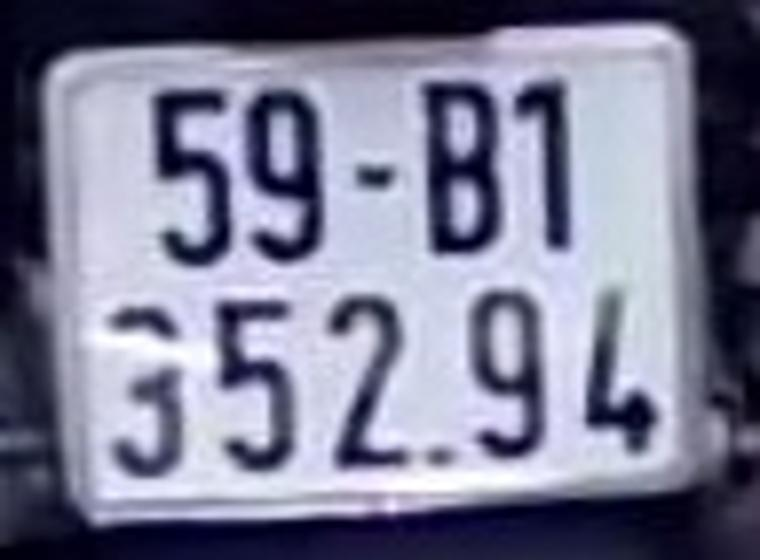-: (357, 163, 393, 189)
.: (426, 444, 453, 464)
1: (516, 79, 571, 250)
2: (324, 293, 409, 468)
3: (104, 304, 187, 482)
4: (575, 282, 663, 450)
5: (211, 297, 297, 475), (149, 87, 233, 264)
9: (246, 90, 326, 267), (467, 291, 549, 459)
B: (423, 79, 497, 255)
